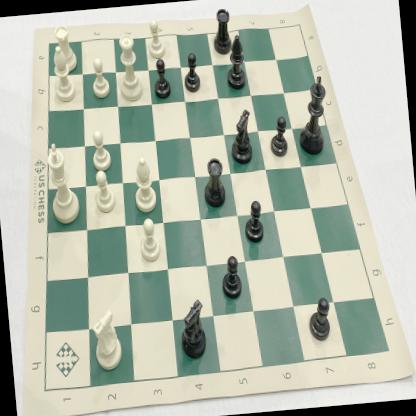bishop: (127, 151, 162, 218), (49, 39, 81, 109), (224, 31, 250, 92)
king: (38, 138, 84, 228), (292, 70, 334, 160)
knight: (87, 304, 128, 376), (176, 291, 212, 363), (226, 103, 259, 169)
pawn: (134, 211, 166, 266), (217, 250, 248, 305), (304, 290, 334, 344), (240, 192, 268, 248), (90, 166, 118, 218), (86, 52, 115, 102), (264, 110, 292, 161), (142, 14, 170, 62), (178, 50, 206, 97), (88, 124, 113, 174), (148, 55, 173, 101)
queen: (113, 27, 148, 105)
rook: (196, 148, 232, 216), (206, 1, 238, 58), (50, 20, 82, 76)
